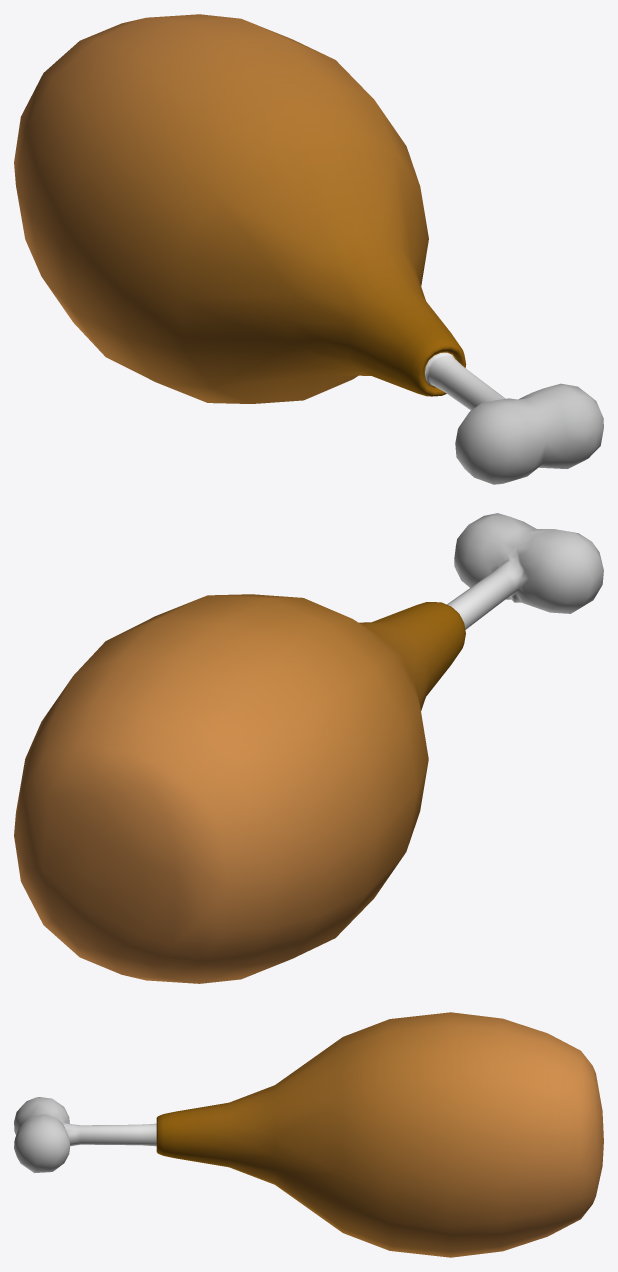
Rendered from chicken.fbx.
3 renders of one model, top to bottom at view 1: azimuth 30°, elevation 25°; view 2: azimuth 150°, elevation 25°; view 3: azimuth 270°, elevation 25°, orthographic. The views are drawn at different scales.
Visible parts, largest first — view 1: chicken; view 2: chicken; view 3: chicken.
Boxes of the visible parts, left/top/right/bottom form: chicken: left=14, top=14, right=603, bottom=484; chicken: left=14, top=513, right=603, bottom=983; chicken: left=14, top=1012, right=603, bottom=1257.
Size of the model in its own units: 48.8 by 48.8 by 119.
